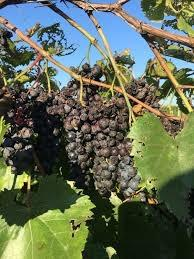Grape Rotten: (0, 64, 144, 199)
